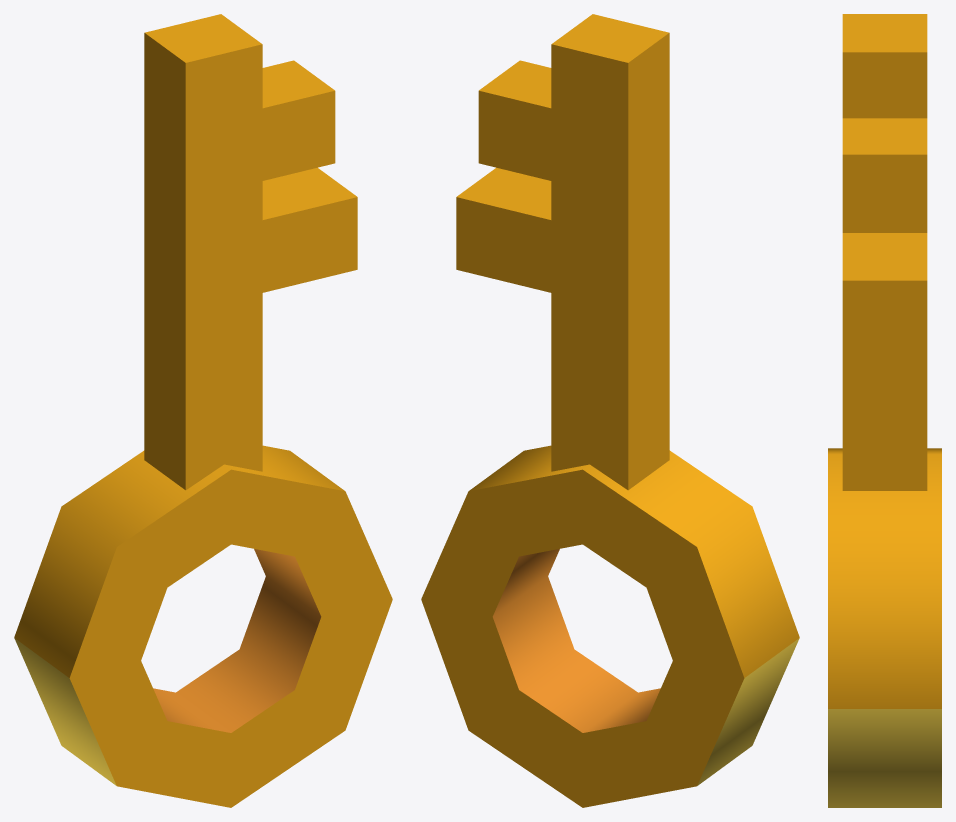
Rendered from Key.fbx.
3 views of the same model, side by side, from view 1: azimuth 30°, elevation 25°; view 2: azimuth 150°, elevation 25°; view 3: azimuth 270°, elevation 25° (orthographic). The views are drawn at different scales.
Visible parts, largest first — view 1: Cube.025; view 2: Cube.025; view 3: Cube.025.
Part boxes in pixels (left/top/right/bottom): Cube.025: left=14, top=14, right=392, bottom=807; Cube.025: left=421, top=14, right=799, bottom=807; Cube.025: left=828, top=14, right=941, bottom=807.
Bounding box in the file's own units: 0.4758 × 0.1413 × 1.05.
